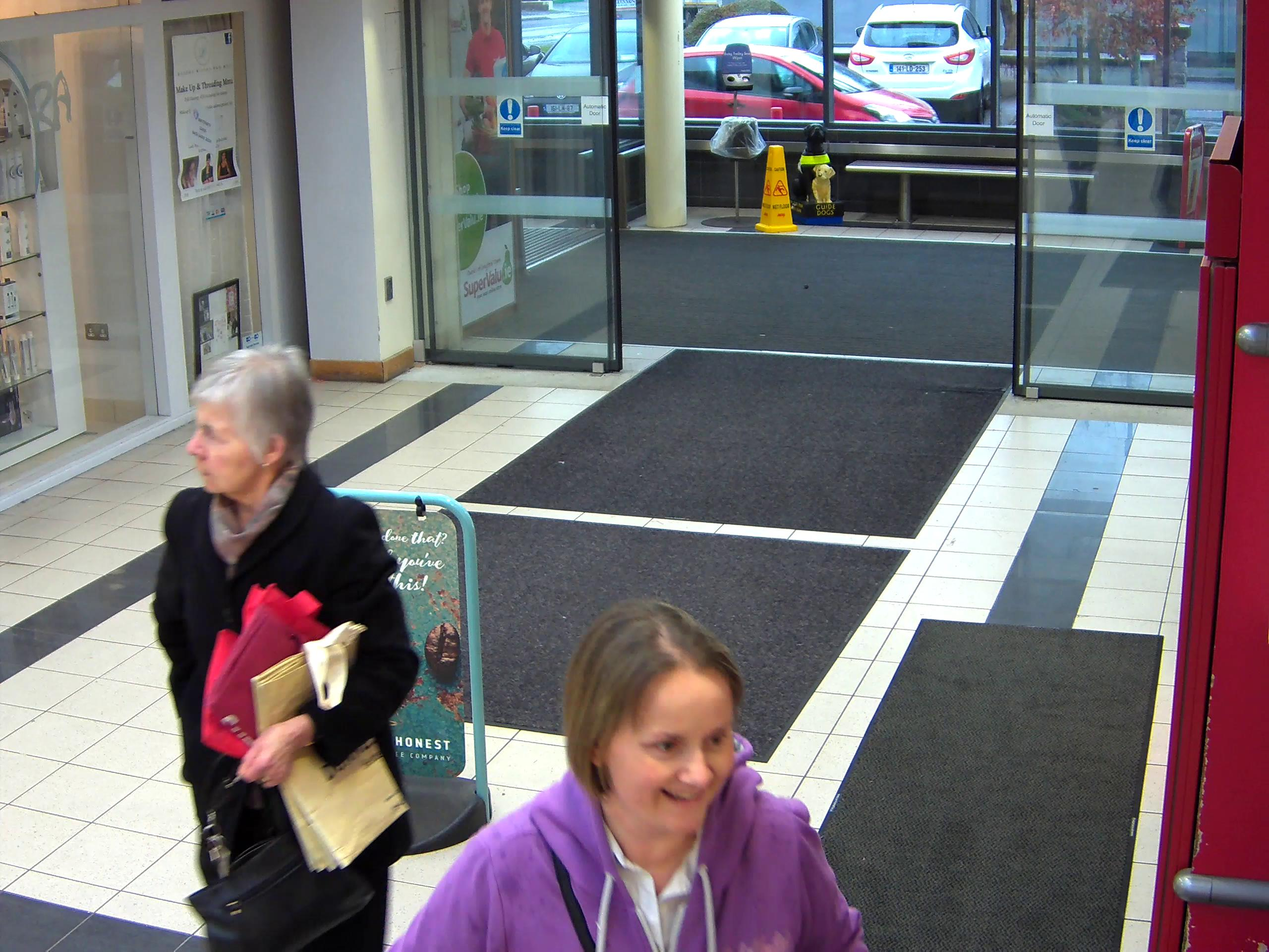backpack-or-handbag: (189, 824, 373, 952)
empty-shopping-bags: (195, 577, 412, 873)
person: (153, 342, 423, 952)
person-with-backpack-handbag-and-shopping-bag-s-: (151, 340, 421, 952)
